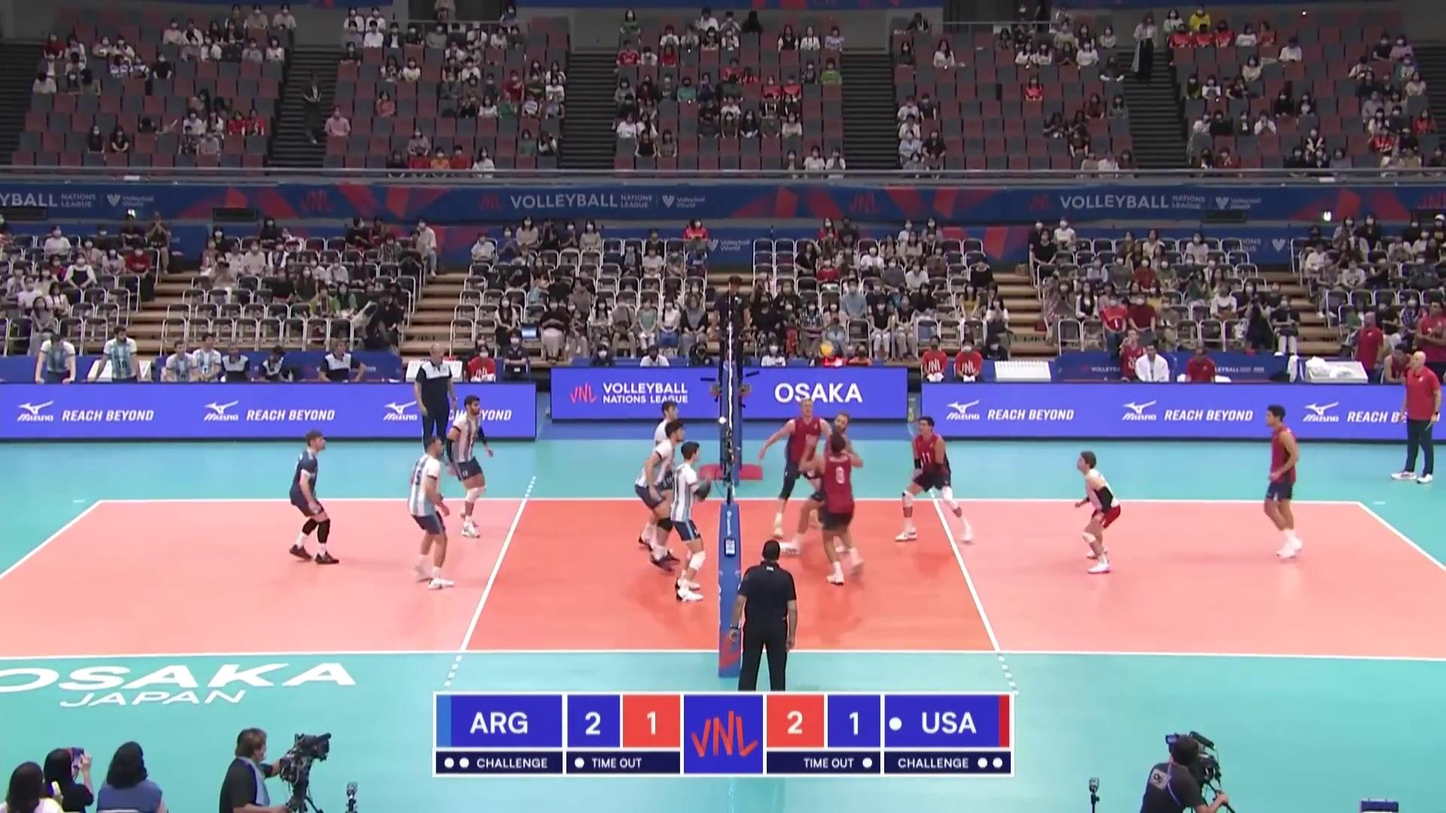player: (774, 412, 855, 557), (898, 419, 973, 548), (768, 397, 834, 540), (811, 434, 863, 586), (634, 423, 685, 573), (406, 436, 454, 587), (668, 444, 712, 603), (1256, 407, 1302, 559), (448, 394, 496, 539), (287, 431, 337, 565), (638, 400, 681, 550), (1073, 450, 1124, 572)
refree: (734, 539, 800, 691), (708, 274, 755, 397)
